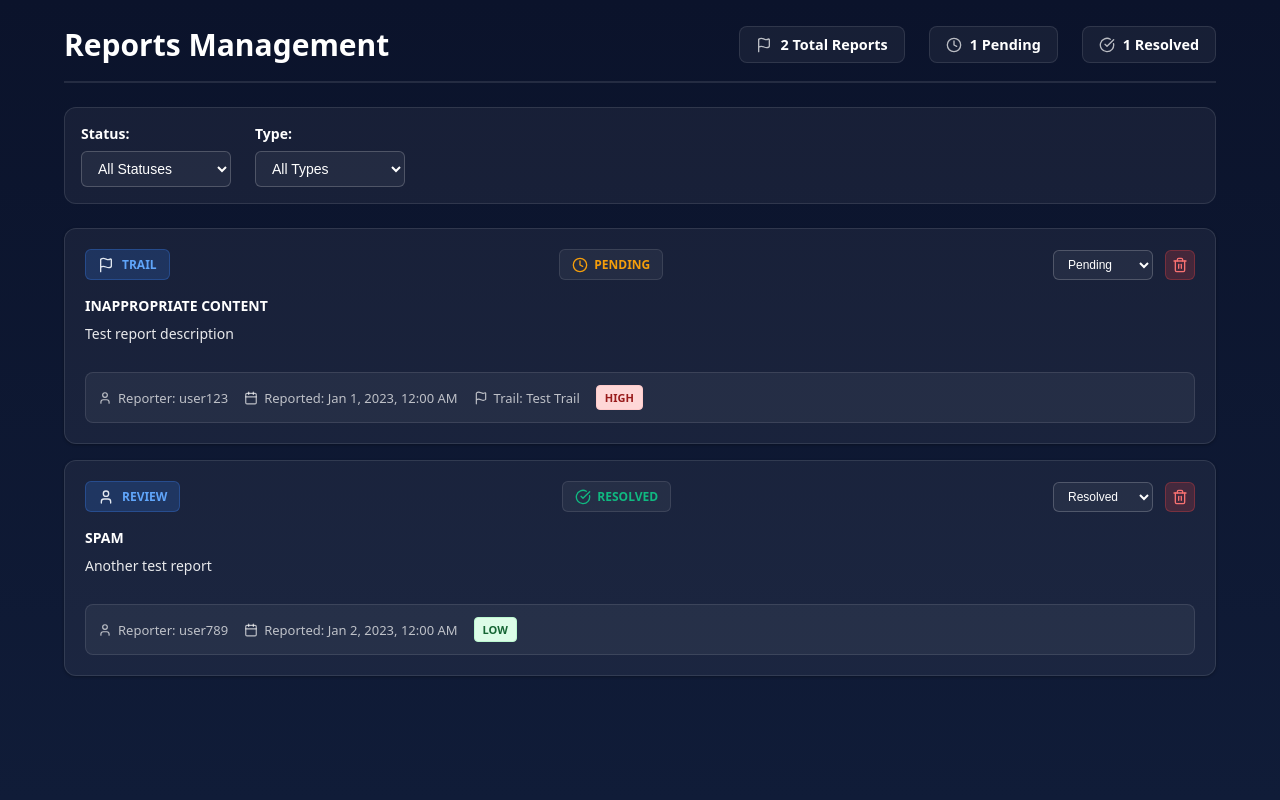
Scenario: ReportsManagement › shows empty state when no reports match filters
Check: the text "2 Total Reports" is shown, box left=780, top=35, right=888, bottom=54
Select "Reviewed" in the dropdown labelled "Status:". click: (156, 169)
box: left=81, top=151, right=231, bottom=187
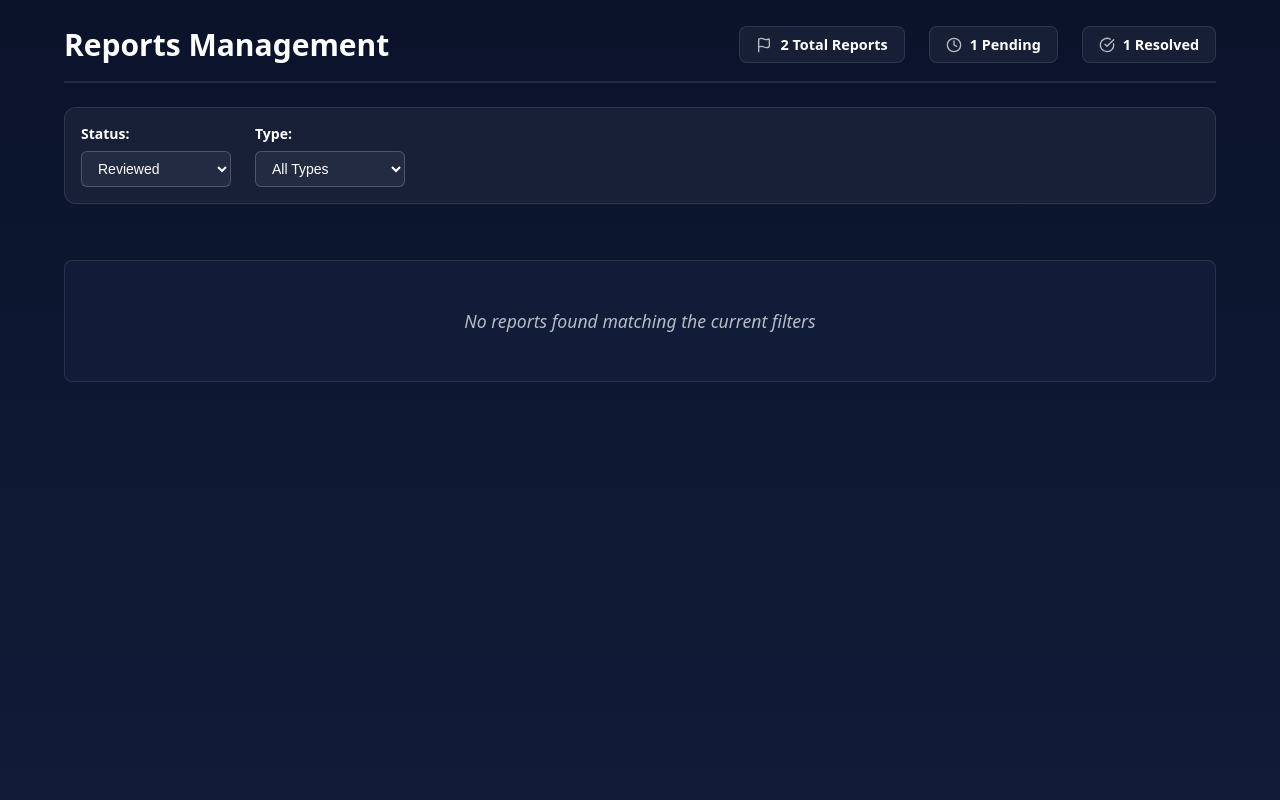
Check: the text "No reports found matching the current filters" is shown, box left=464, top=309, right=816, bottom=333
